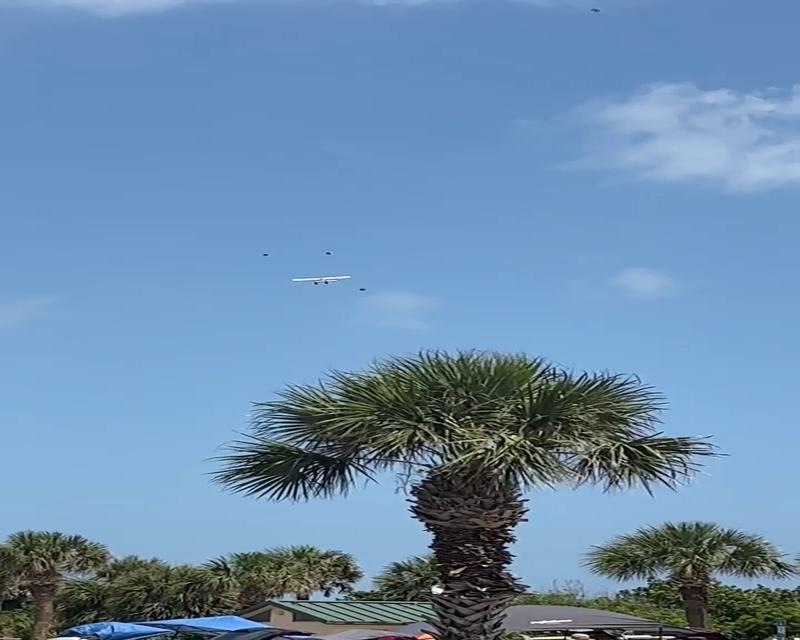UAV: (291, 274, 351, 286)
